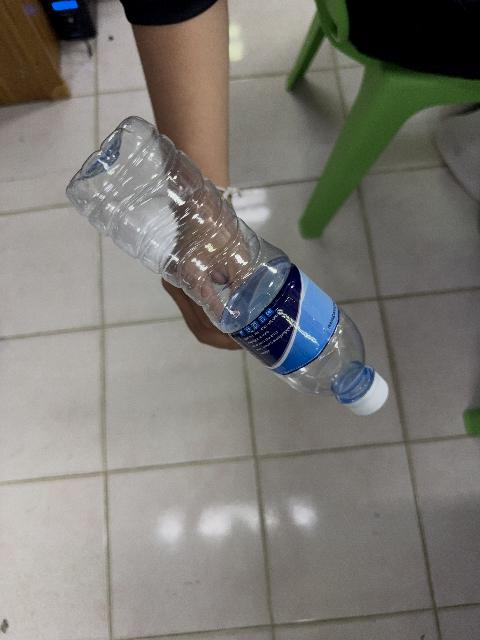bottle: (67, 117, 388, 414)
